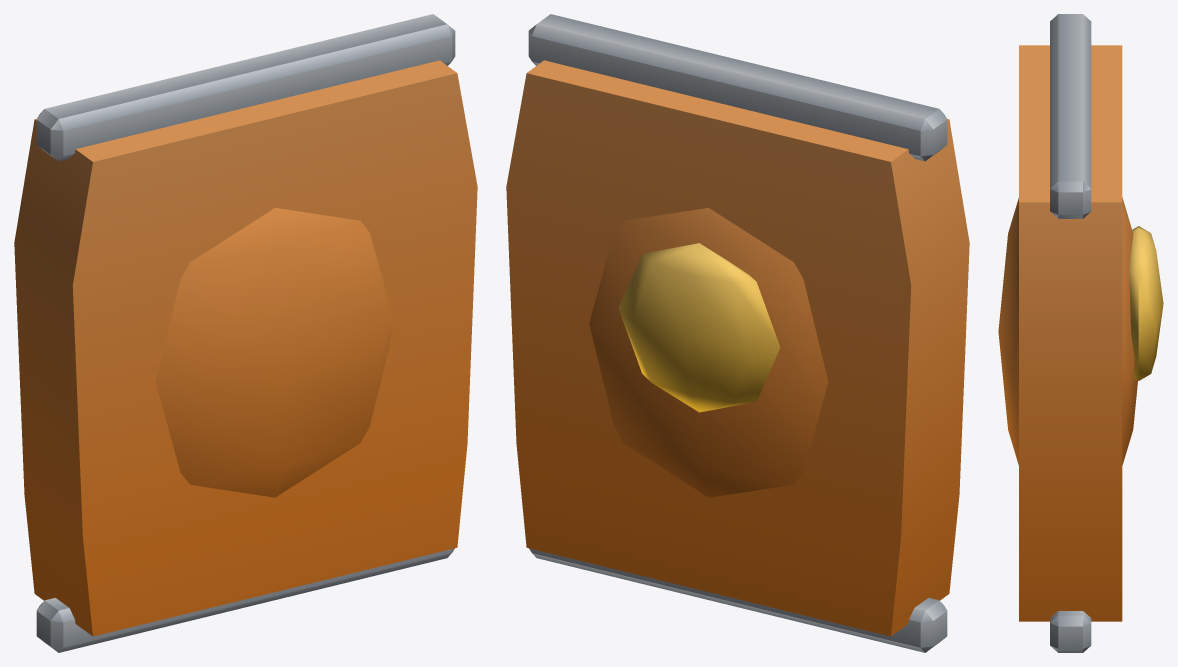
The model's file is ck_chip_bag.fbx.
The picture shows the model from 3 angles, left to right: view 1: azimuth 30°, elevation 25°; view 2: azimuth 150°, elevation 25°; view 3: azimuth 270°, elevation 25°; orthographic projection. The views are drawn at different scales.
Visible parts, largest first — view 1: ck_chip_bag; view 2: ck_chip_bag; view 3: ck_chip_bag.
Boxes of the visible parts, x1,y1,x2,y2 form: ck_chip_bag: [14, 14, 477, 652]; ck_chip_bag: [506, 14, 969, 652]; ck_chip_bag: [998, 14, 1163, 652].
Bounding box in the file's own units: 63.49 × 80 × 25.4.
